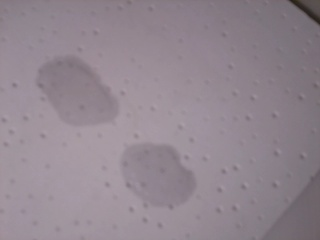Water_detected: (126, 151, 186, 194), (49, 68, 109, 111)
